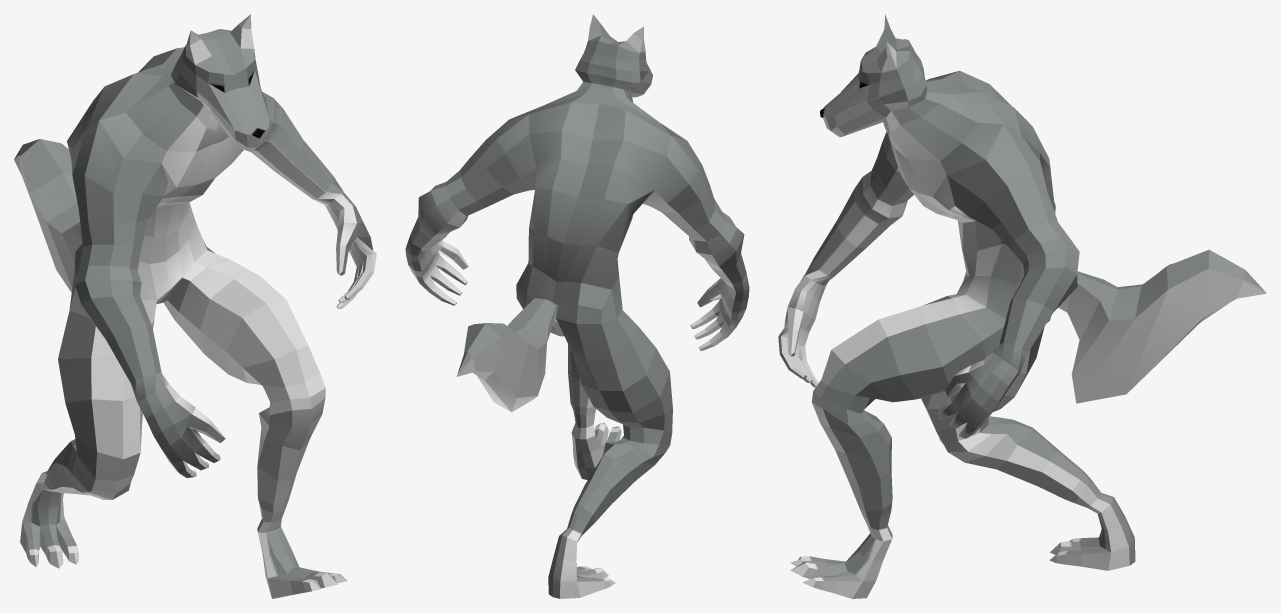
Rendered from WolfWalk(5).obj.
3 renders of one model, left to right at view 1: azimuth 30°, elevation 25°; view 2: azimuth 150°, elevation 25°; view 3: azimuth 270°, elevation 25°, orthographic. The views are drawn at different scales.
Visible parts, largest first — view 1: Box001; view 2: Box001; view 3: Box001.
Part boxes in pixels (bbox=[...]): Box001: bbox=[14, 14, 376, 598]; Box001: bbox=[405, 14, 749, 598]; Box001: bbox=[778, 14, 1266, 598].
Bounding box in the file's own units: 82.43 × 138 × 109.
